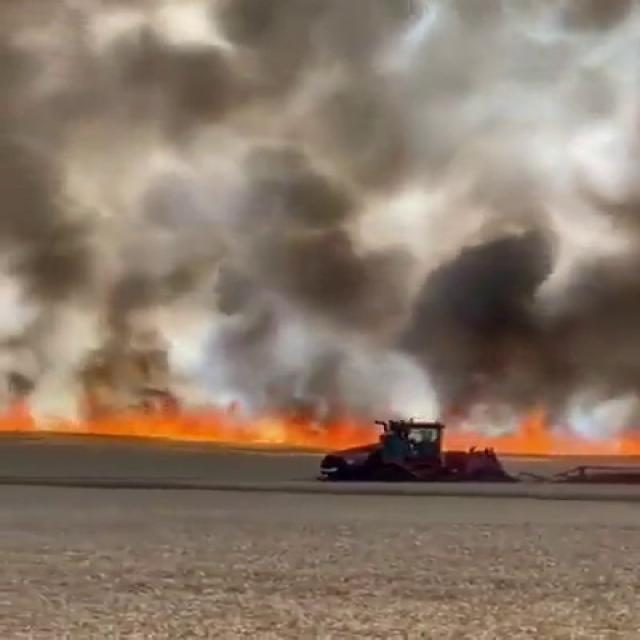Fire: (2, 398, 362, 454), (445, 430, 640, 455)
